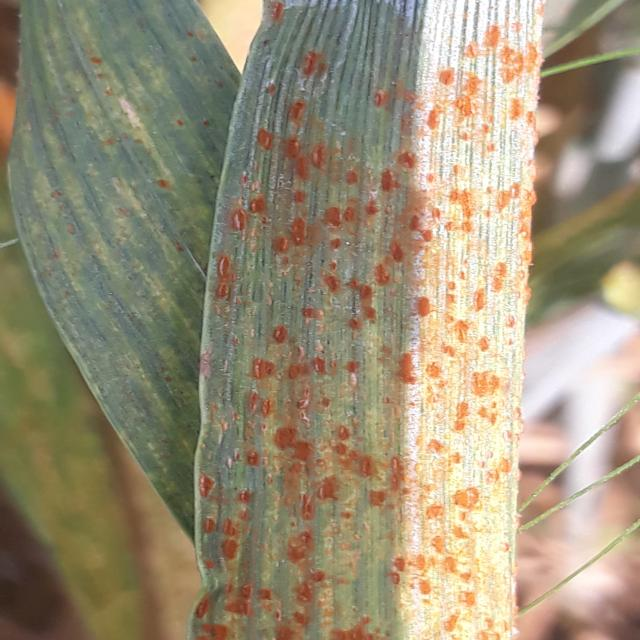orang_rust: (187, 0, 552, 640), (0, 0, 231, 510)
